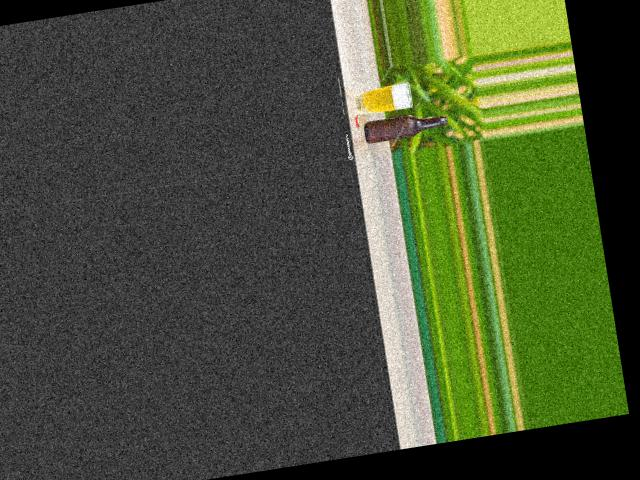beer: (362, 109, 448, 143)
